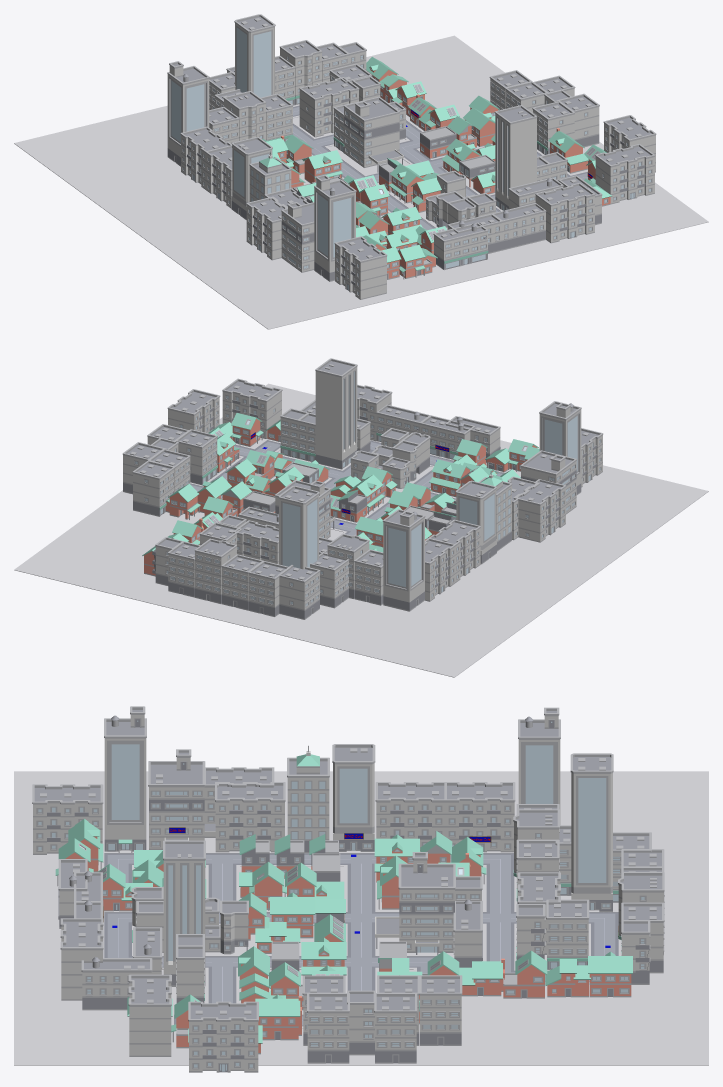
The model's file is Maze 1 WF_ML.fbx.
The picture shows the model from 3 angles, top to bottom: view 1: azimuth 30°, elevation 25°; view 2: azimuth 150°, elevation 25°; view 3: azimuth 270°, elevation 25°; orthographic projection. The views are drawn at different scales.
Parts seen in each view (by area): view 1: tile_low, skyscraperF, large_buildingG, skyscraperC, skyscraperC__1_, skyscraperB, large_buildingA__6_, large_buildingA__4_, large_buildingA_1, large_buildingA, large_buildingG_1, large_buildingF__4_ (+48 smaller); view 2: tile_low, skyscraperF, skyscraperC__1_, skyscraperB, large_buildingA__5_, skyscraperC, large_buildingA__6_, skyscraperA, large_buildingD__11_, large_buildingD__8_, large_buildingE__1_, large_buildingG_1 (+50 smaller); view 3: tile_low, skyscraperB, skyscraperC, large_buildingG, large_buildingA__7_, large_buildingG_1, skyscraperF, skyscraperA, large_buildingA__3_, large_buildingA__1_, large_buildingA__2_, large_buildingA__4_ (+62 smaller).
Part boxes in pixels (bbox=[...]): tile_low: bbox=[14, 35, 708, 329]; skyscraperF: bbox=[494, 105, 537, 210]; large_buildingG: bbox=[343, 96, 403, 172]; skyscraperC: bbox=[314, 174, 356, 281]; skyscraperC__1_: bbox=[167, 61, 209, 166]; skyscraperB: bbox=[234, 14, 275, 97]; large_buildingA__6_: bbox=[595, 144, 655, 204]; large_buildingA__4_: bbox=[334, 236, 387, 299]; large_buildingA_1: bbox=[535, 182, 595, 243]; large_buildingA: bbox=[299, 77, 359, 137]; large_buildingG_1: bbox=[281, 202, 314, 272]; large_buildingF__4_: bbox=[433, 222, 488, 270]; tile_low: bbox=[14, 383, 708, 677]; skyscraperF: bbox=[315, 358, 357, 469]; skyscraperC__1_: bbox=[382, 509, 425, 611]; skyscraperB: bbox=[278, 486, 319, 569]; large_buildingA__5_: bbox=[513, 479, 566, 542]; skyscraperC: bbox=[539, 401, 581, 495]; large_buildingA__6_: bbox=[222, 378, 282, 438]; skyscraperA: bbox=[455, 480, 496, 564]; large_buildingD__11_: bbox=[278, 565, 320, 619]; large_buildingD__8_: bbox=[132, 460, 175, 516]; large_buildingE__1_: bbox=[194, 538, 236, 604]; large_buildingG_1: bbox=[520, 450, 576, 514]; tile_low: bbox=[14, 771, 708, 1065]; skyscraperB: bbox=[570, 753, 613, 912]; skyscraperC: bbox=[104, 706, 146, 852]; large_buildingG: bbox=[375, 852, 455, 954]; large_buildingA__7_: bbox=[188, 1001, 258, 1072]; large_buildingG_1: bbox=[148, 749, 215, 849]; skyscraperF: bbox=[163, 840, 205, 986]; skyscraperA: bbox=[332, 744, 375, 851]; large_buildingA__3_: bbox=[444, 782, 515, 852]; large_buildingA__1_: bbox=[215, 782, 285, 852]; large_buildingA__2_: bbox=[375, 782, 446, 850]; large_buildingA__4_: bbox=[32, 784, 103, 854].
Size of the model in its own units: 20519 by 4495 by 20000.
